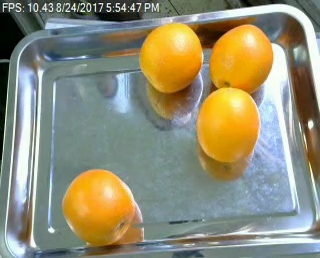Orange: (62, 169, 136, 247), (197, 86, 261, 163), (209, 22, 275, 94), (139, 20, 203, 93)
